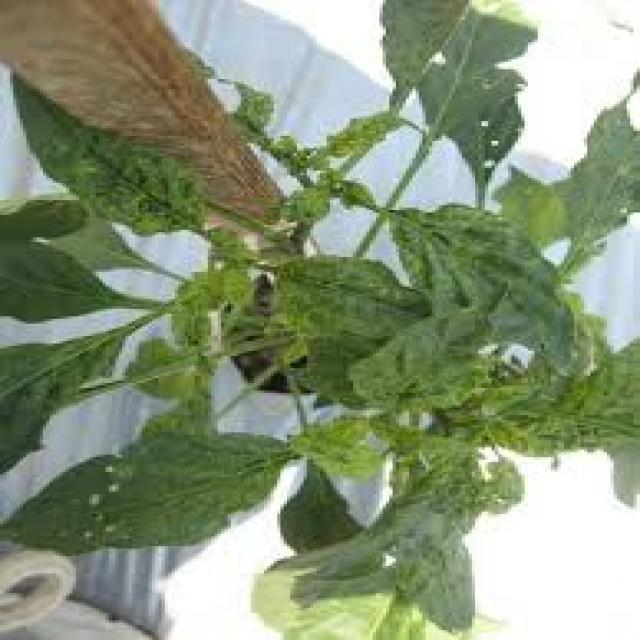virus_kuning: (158, 229, 273, 353)
